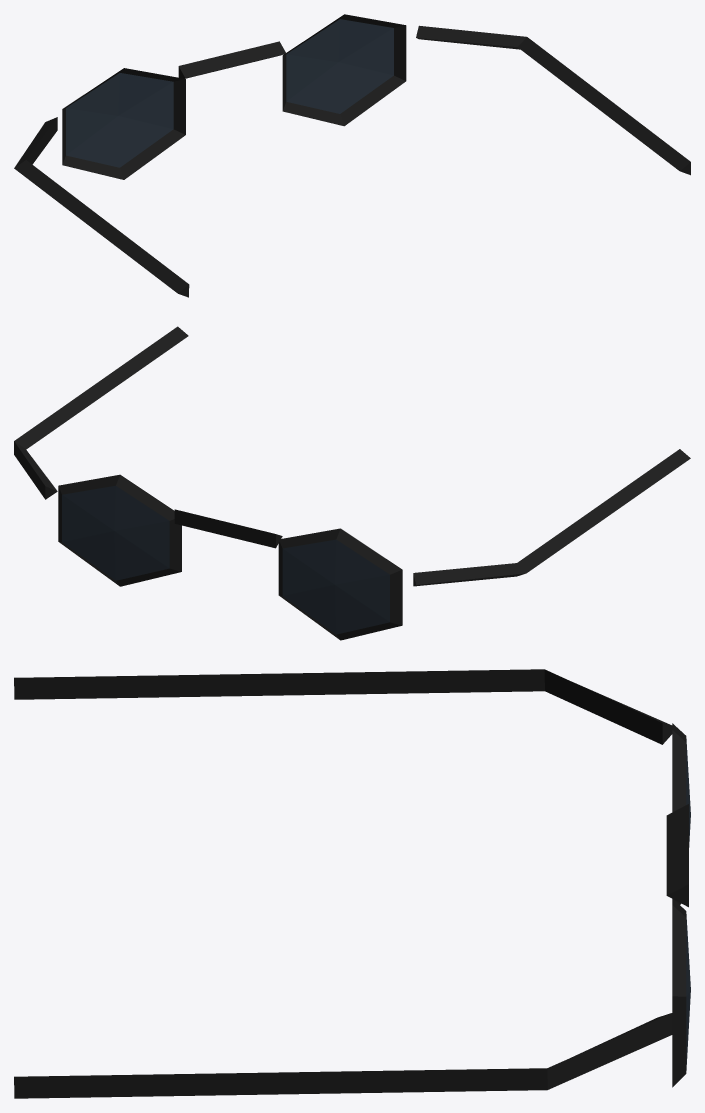
File: lwf_sunglasses_female_v1.glb
3 views of the same model, one above another, from view 1: azimuth 30°, elevation 25°; view 2: azimuth 150°, elevation 25°; view 3: azimuth 270°, elevation 25° (orthographic). The views are drawn at different scales.
Visible parts, largest first — view 1: LWF_Sunglasses; view 2: LWF_Sunglasses; view 3: LWF_Sunglasses.
Boxes of the visible parts, left/top/right/bottom form: LWF_Sunglasses: left=14, top=14, right=690, bottom=297; LWF_Sunglasses: left=14, top=326, right=690, bottom=640; LWF_Sunglasses: left=14, top=669, right=690, bottom=1098.
Bounding box in the file's own units: 0.2065 × 0.0431 × 0.1449.
Materials: 1 (1 with a texture image).
